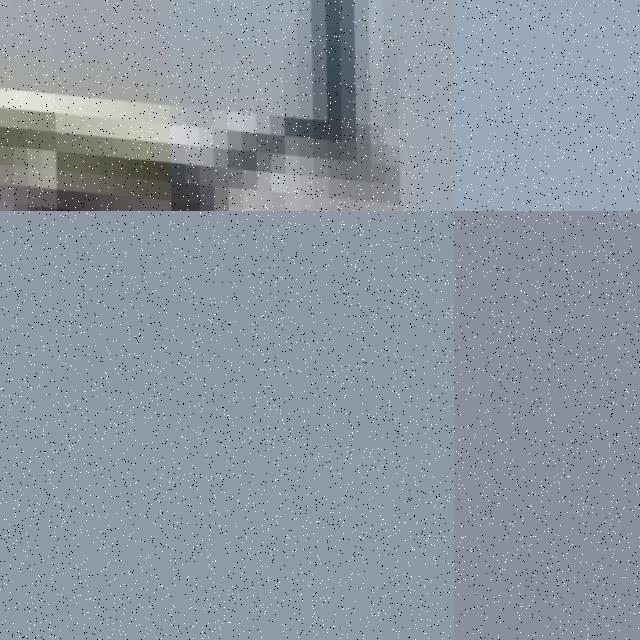drone: (0, 0, 454, 211)
